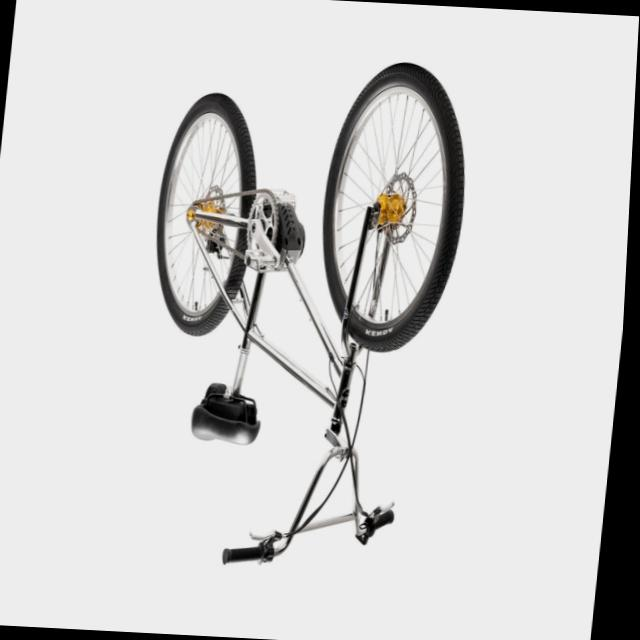bmx-bike: (122, 52, 482, 582)
